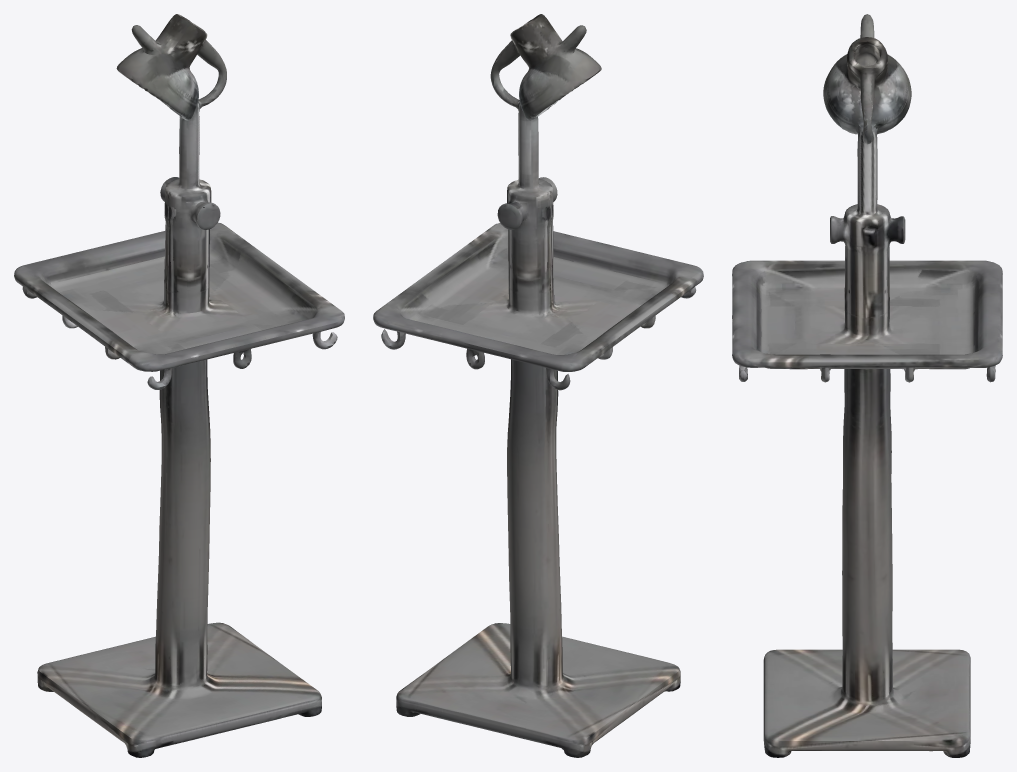
File: inspection-stand.glb
3 views of the same model, side by side, from view 1: azimuth 30°, elevation 25°; view 2: azimuth 150°, elevation 25°; view 3: azimuth 270°, elevation 25° (orthographic).
Visible parts, largest first — view 1: cowninja-inspection-stand; view 2: cowninja-inspection-stand; view 3: cowninja-inspection-stand.
Boxes of the visible parts, x1,y1,x2,y2 form: cowninja-inspection-stand: (14,14,344,757); cowninja-inspection-stand: (373,14,703,757); cowninja-inspection-stand: (732,14,1002,757).
Size of the model in its own units: 0.4802 by 1.5 by 0.5427.
Materials: 1 (1 with a texture image).
